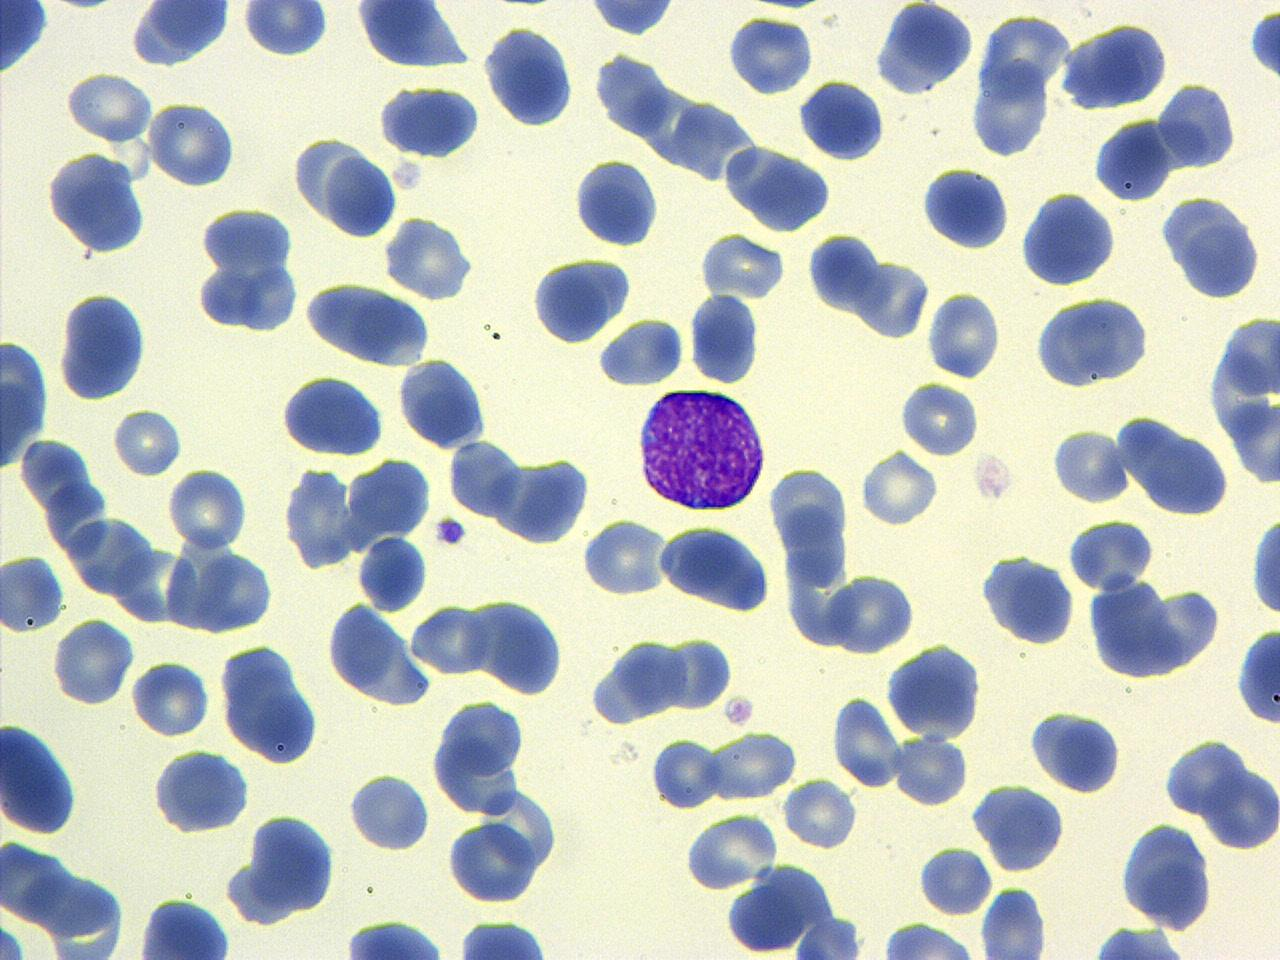Platelets: (686, 291, 762, 385), (897, 378, 984, 458), (111, 404, 186, 477), (237, 2, 329, 59), (1247, 9, 1279, 80), (432, 514, 470, 548)
RBC: (28, 147, 145, 265), (659, 520, 774, 612), (474, 596, 568, 698), (492, 454, 592, 545), (680, 808, 780, 892), (382, 214, 477, 302), (49, 614, 136, 708), (149, 98, 239, 188), (825, 571, 916, 656), (578, 516, 670, 598), (1156, 80, 1238, 169), (924, 288, 1004, 380), (1090, 115, 1172, 203), (830, 691, 903, 790), (167, 463, 247, 550), (686, 292, 760, 386), (857, 447, 942, 526), (323, 153, 401, 240), (703, 730, 798, 802), (446, 437, 526, 521), (896, 378, 981, 458), (804, 227, 880, 316), (1050, 425, 1132, 506), (63, 70, 153, 143), (696, 230, 787, 299), (129, 658, 208, 738), (411, 600, 492, 678), (357, 534, 433, 612), (914, 842, 993, 916), (894, 732, 969, 808), (782, 776, 858, 850), (647, 736, 720, 812), (977, 884, 1048, 960), (238, 0, 330, 58), (112, 406, 184, 478), (872, 918, 988, 958), (0, 919, 25, 960)
WBC: (639, 385, 772, 514), (1081, 570, 1221, 684), (193, 200, 309, 334), (968, 9, 1071, 155), (720, 859, 869, 959), (224, 806, 341, 932), (217, 638, 322, 768), (1205, 306, 1280, 488), (442, 796, 560, 909), (430, 694, 532, 820), (322, 598, 438, 707), (657, 514, 777, 618), (1030, 290, 1154, 390), (1157, 189, 1267, 301), (301, 279, 434, 369), (44, 147, 151, 258), (55, 286, 153, 402), (1116, 818, 1215, 931), (1122, 410, 1228, 515), (1057, 19, 1171, 114), (1016, 187, 1120, 289), (870, 0, 978, 99), (480, 22, 578, 130), (885, 639, 986, 743), (528, 252, 636, 347), (0, 718, 85, 837), (976, 549, 1078, 646), (969, 778, 1070, 874), (278, 371, 388, 460), (396, 353, 494, 451), (150, 743, 253, 836), (592, 634, 690, 724), (918, 160, 1010, 254), (1026, 706, 1122, 796), (374, 82, 482, 161), (385, 210, 482, 297), (573, 155, 663, 249), (796, 75, 888, 164), (726, 10, 818, 98), (352, 1, 478, 66), (682, 810, 775, 896), (1155, 77, 1237, 174), (0, 330, 54, 476), (686, 286, 762, 388), (580, 514, 669, 600), (349, 453, 432, 542), (1091, 115, 1173, 204), (128, 2, 236, 70), (348, 768, 432, 854), (1162, 734, 1246, 820), (1067, 514, 1155, 594), (595, 314, 687, 388), (134, 896, 235, 960), (806, 230, 881, 316), (325, 154, 399, 240), (356, 532, 430, 614), (916, 840, 994, 918), (1062, 923, 1218, 959), (240, 0, 336, 58), (649, 734, 720, 813), (1, 551, 66, 636), (1234, 622, 1280, 730), (337, 915, 452, 958), (451, 917, 563, 959), (874, 919, 988, 959), (1, 1, 55, 81), (582, 0, 682, 39), (1248, 506, 1280, 627)
